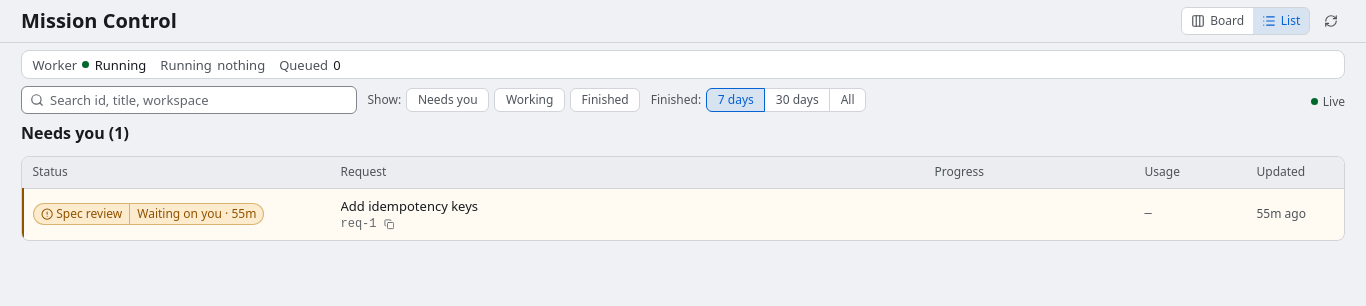
Test case: a refresh failure surfaces a stale-data warning, not silence
The width and height of the screenshot is (1366, 306).
Expected: the link "Add idempotency keys" is shown, top-left (340, 196), bottom-right (478, 214)
Click the button named "Refresh" at (1331, 21), box top-left (1317, 7), bottom-right (1345, 35)
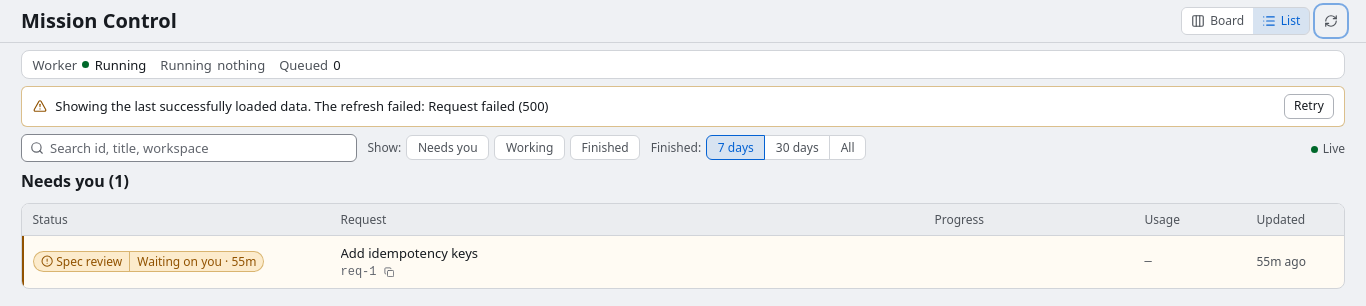
Expected: the link "Add idempotency keys" is shown, top-left (340, 244), bottom-right (478, 262)
Expected: the message with test id "request-list-stale-banner" is shown, top-left (21, 86), bottom-right (1345, 126)
